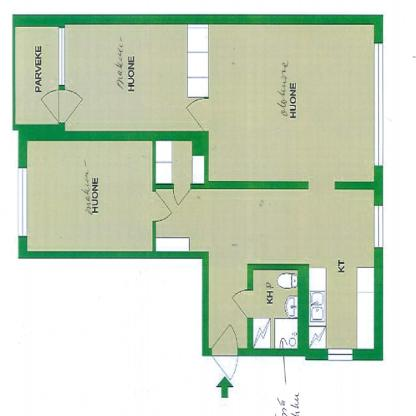door: (209, 324, 241, 383), (41, 87, 85, 124), (183, 98, 212, 131), (152, 190, 173, 226), (230, 287, 252, 321), (174, 184, 193, 206)
window: (374, 43, 382, 166), (18, 168, 26, 238), (57, 27, 66, 85), (376, 204, 382, 245)
zone: (64, 24, 376, 183), (154, 188, 376, 349), (28, 141, 153, 250), (14, 24, 58, 123), (251, 270, 296, 348), (154, 139, 202, 182)
